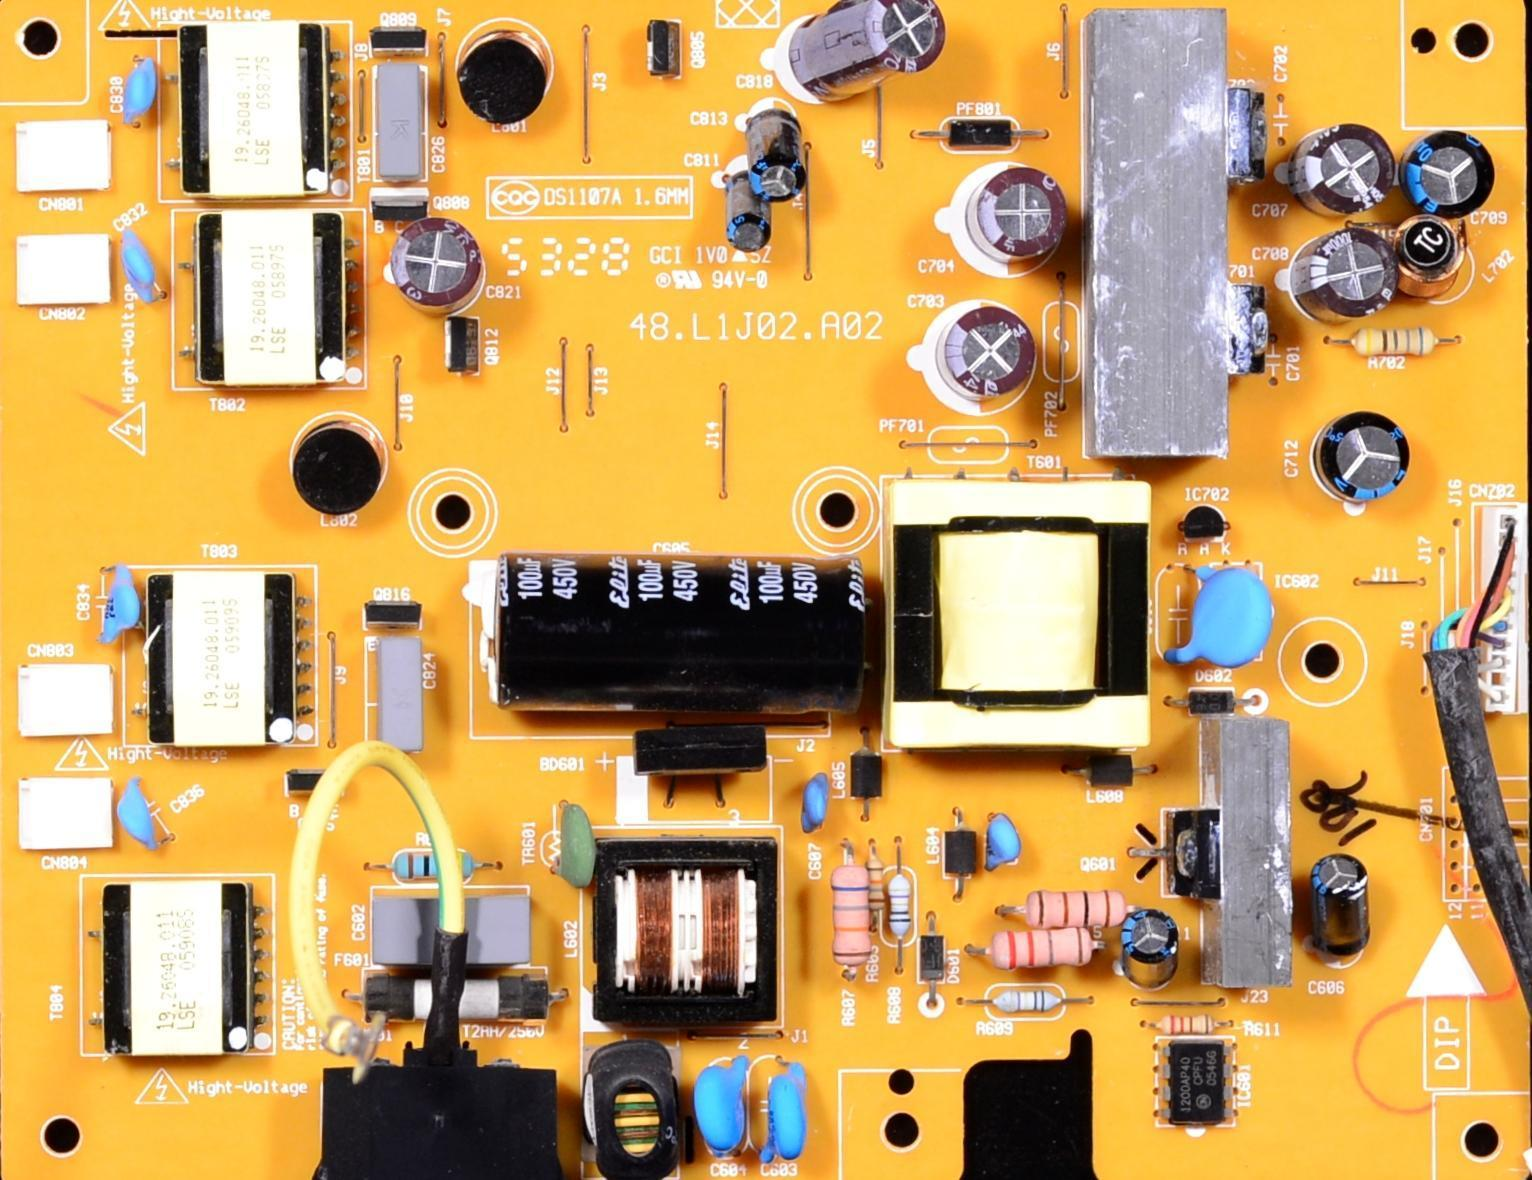Capacitor: (499, 548, 881, 727), (794, 1, 933, 108), (376, 888, 544, 964), (1172, 558, 1263, 684), (1321, 408, 1412, 514), (1294, 121, 1391, 220), (384, 218, 481, 310), (944, 308, 1028, 412), (969, 169, 1069, 252), (1301, 228, 1393, 314), (1402, 129, 1490, 214), (1314, 854, 1373, 958), (699, 1058, 757, 1162), (717, 169, 780, 259), (111, 219, 165, 318), (764, 1061, 819, 1154), (751, 108, 805, 200), (1119, 908, 1177, 981), (96, 568, 144, 648), (116, 778, 167, 854), (982, 801, 1024, 880), (119, 61, 163, 126), (799, 773, 839, 827)
Connector: (2, 114, 157, 203), (0, 658, 139, 746), (12, 768, 137, 860), (4, 763, 147, 841), (5, 650, 127, 740), (0, 230, 107, 319)
IC: (1152, 1043, 1258, 1145)
Resistor: (979, 926, 1115, 976), (1326, 319, 1444, 365), (1022, 891, 1134, 934), (832, 858, 867, 978), (856, 864, 902, 954), (386, 848, 484, 889), (886, 871, 930, 954), (989, 981, 1072, 1022), (1146, 1008, 1245, 1042)
Transistor: (437, 311, 481, 388), (649, 9, 690, 84), (367, 26, 431, 60)
